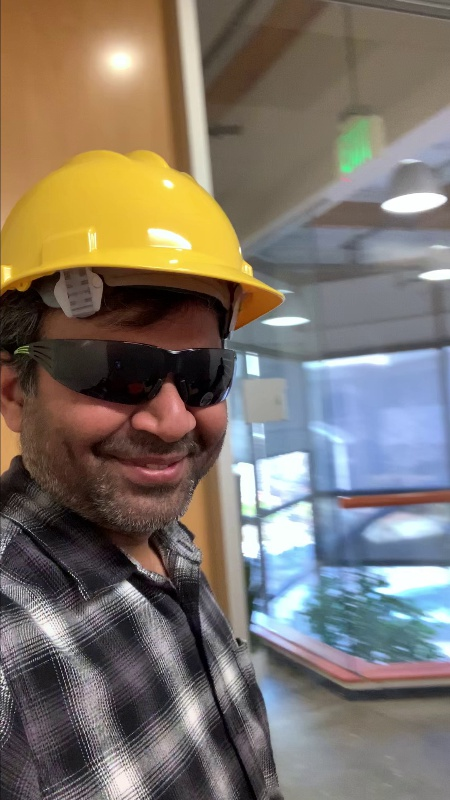glasses: (44, 332, 241, 411)
helmet: (1, 140, 294, 324)
